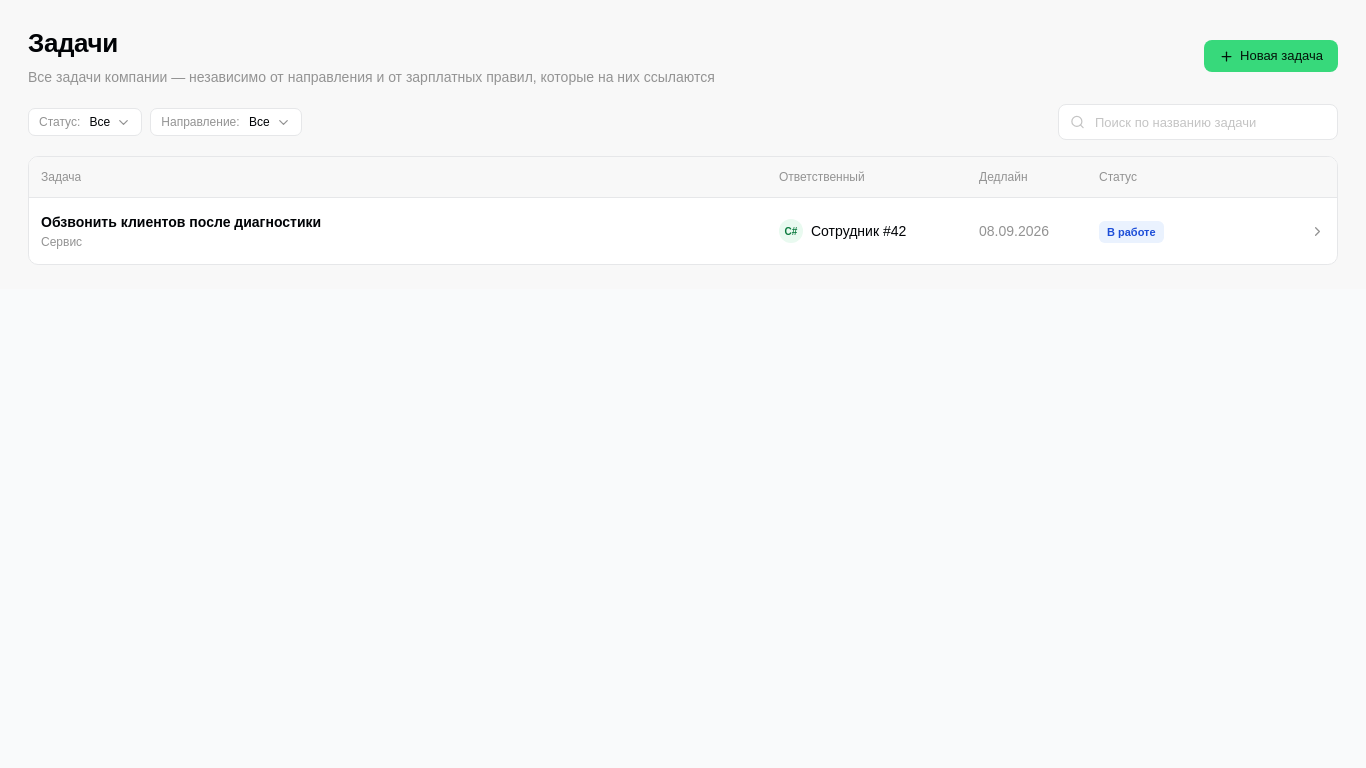
TasksPageMediator › панель зарплатного правила (add-task-salary-rule-links-comments) › клик по блоку правила на карточке задачи открывает SalaryRuleDetailsPanel (GET .../salary-rules/rule-1)
Click the text "Обзвонить клиентов после диагностики". click: (181, 222)
box: [41,214,321,230]
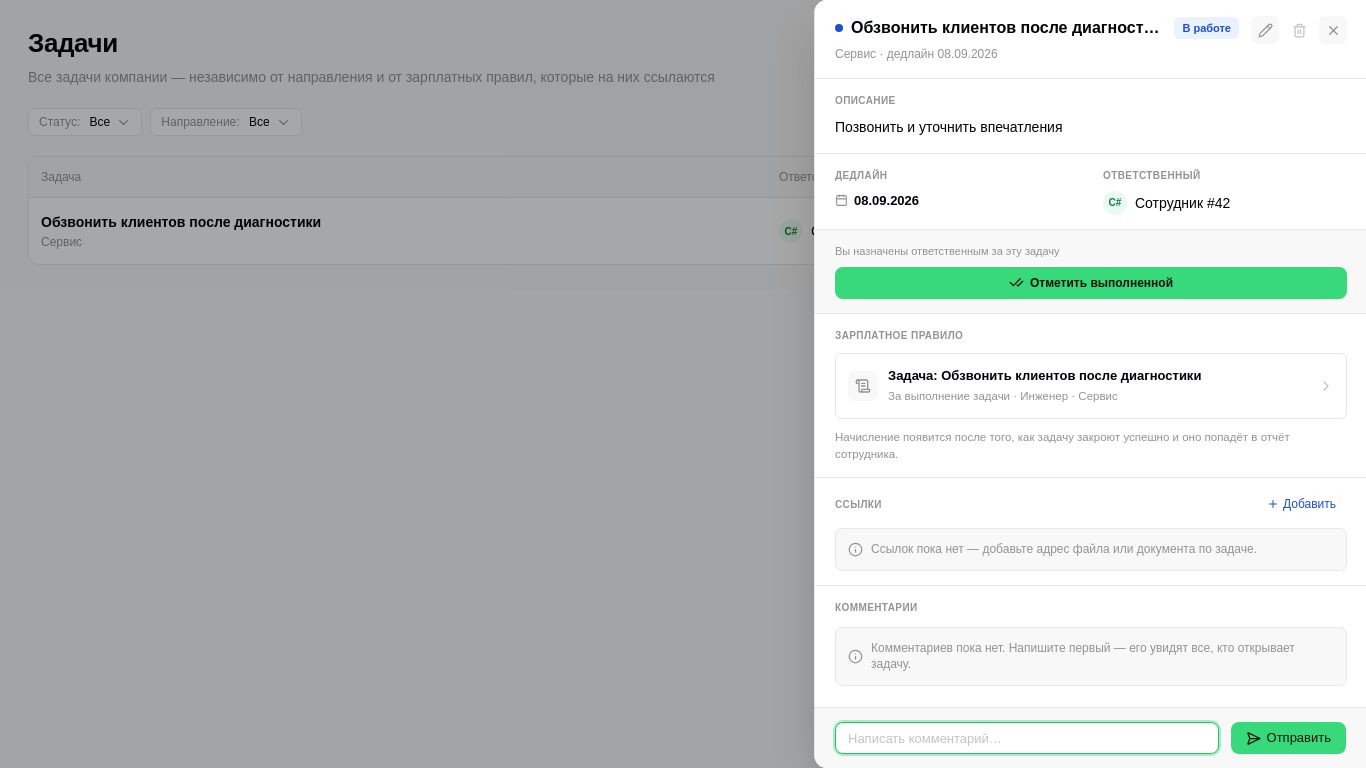
Click the button "Задача: Обзвонить клиентов после диагностики". click: (1091, 386)
box: [835,353,1347,419]
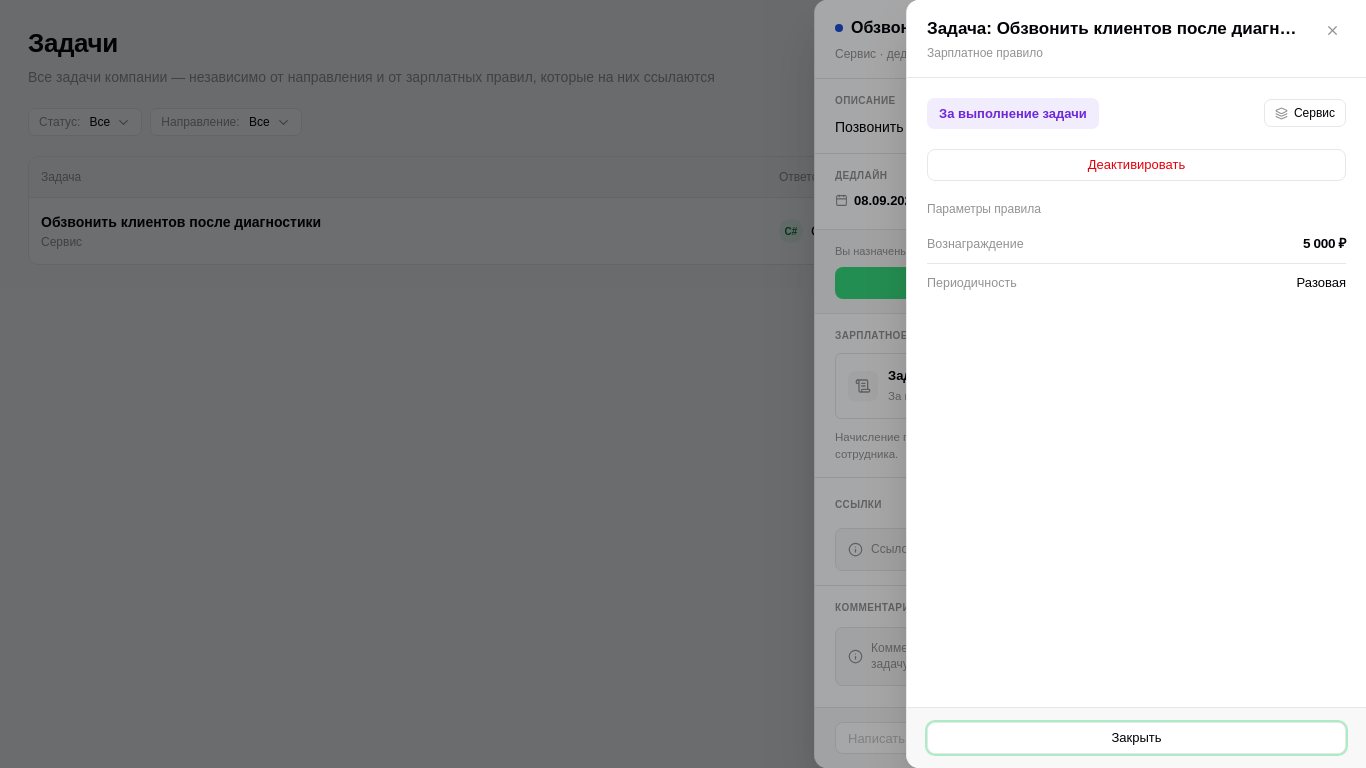
Result: the heading "Задача: Обзвонить клиентов после диагностики" is shown at [927,16,1302,42]
Result: the button named "Закрыть панель правила" is shown at [1318,16,1346,44]
